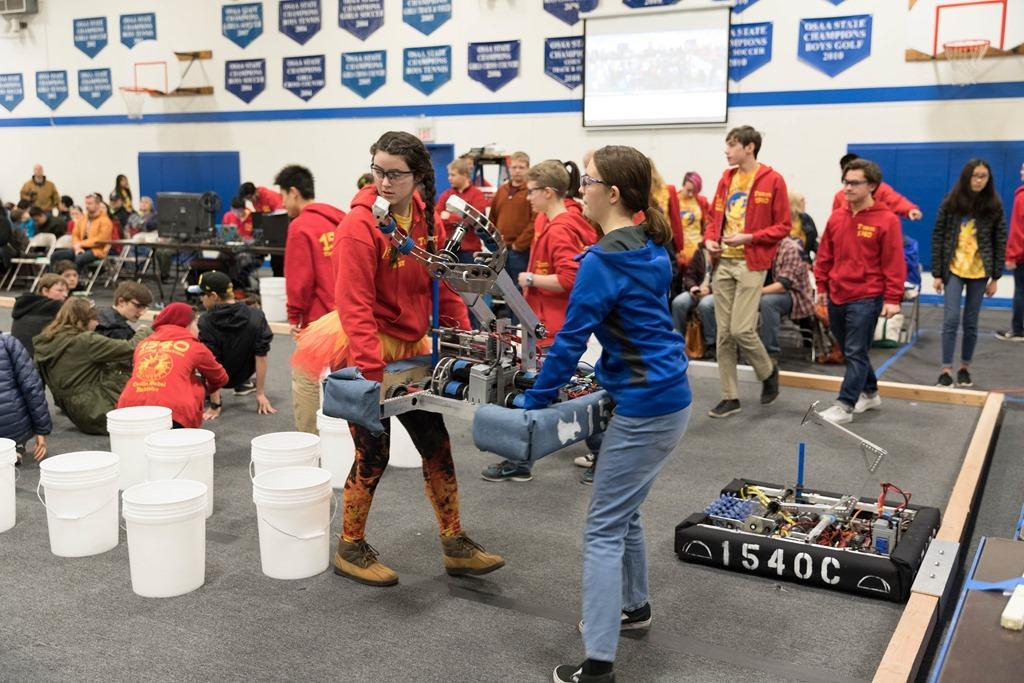robot: (302, 186, 636, 453), (671, 440, 946, 603)
